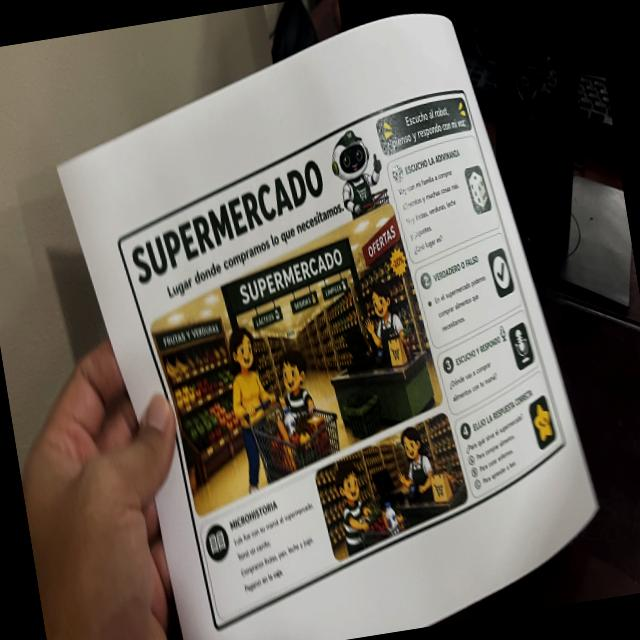supermercado: (96, 74, 591, 640)
